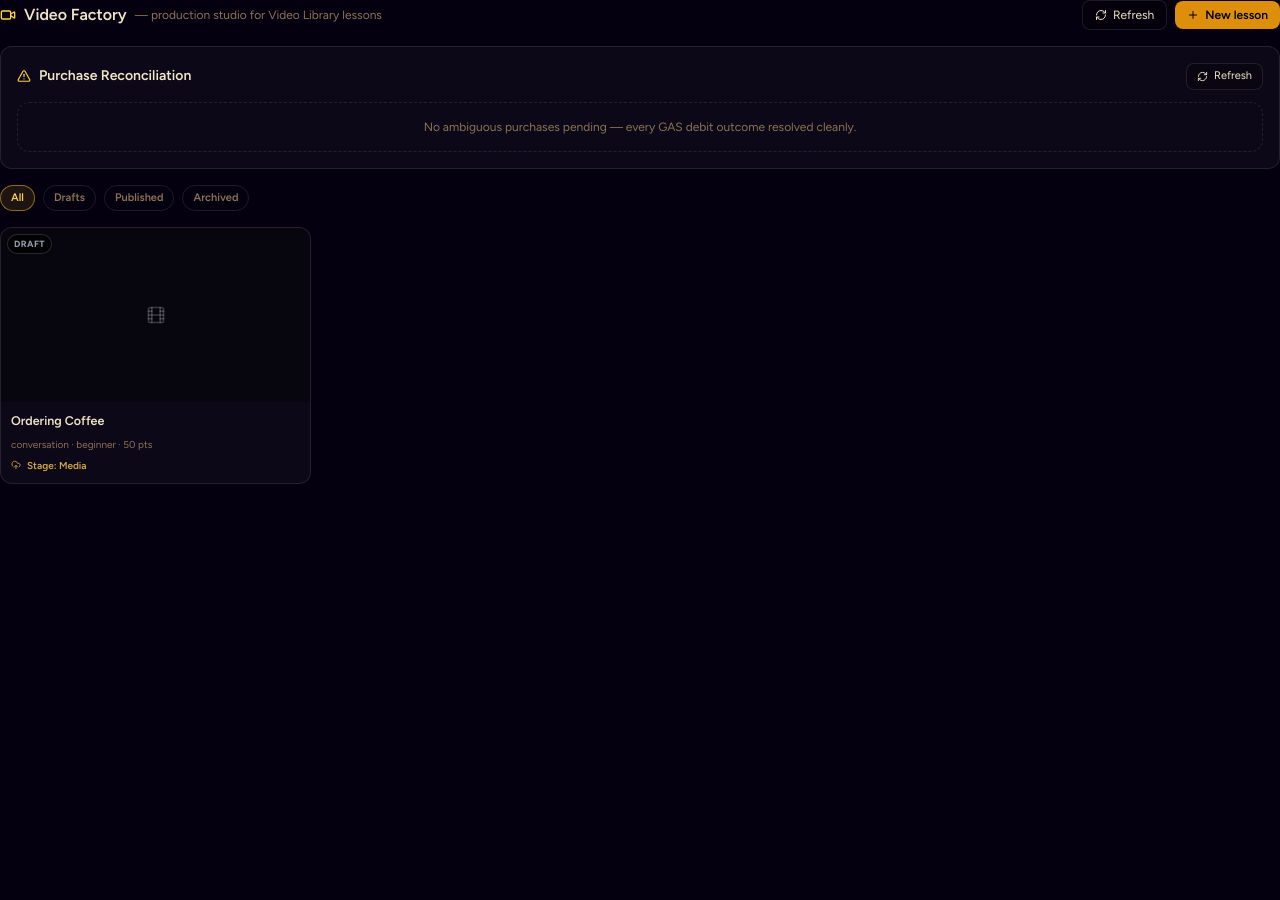
Test: opening a lesson launches the staged production studio
Click the button with test id "video-factory-lesson-vid_1": (156, 355) [0,227,311,484]
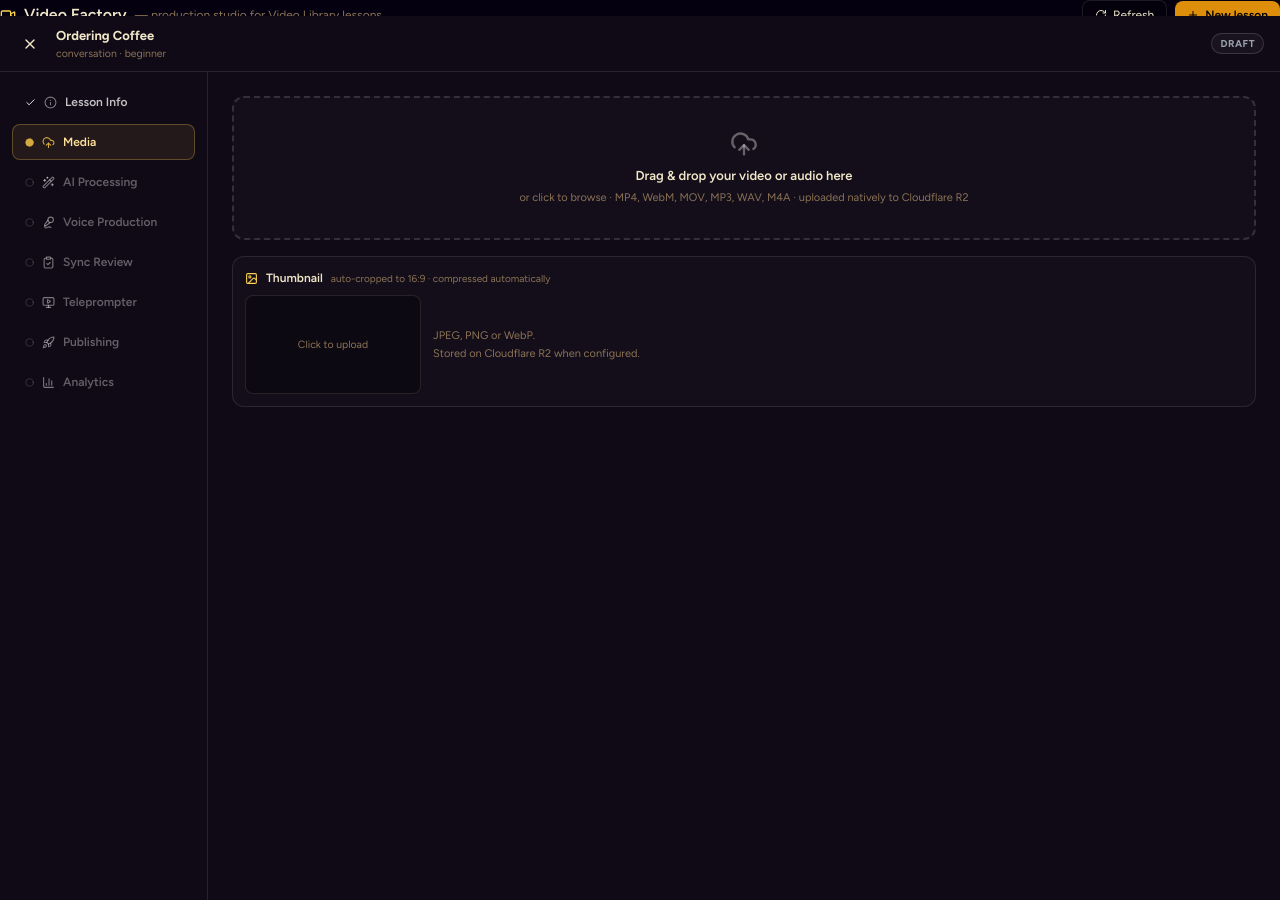
expect the element with test id "production-studio" is shown: met
expect the button with test id "production-stage-info" is shown: met, box [12,84,195,120]
expect the button with test id "production-stage-media" is shown: met, box [12,124,195,160]
